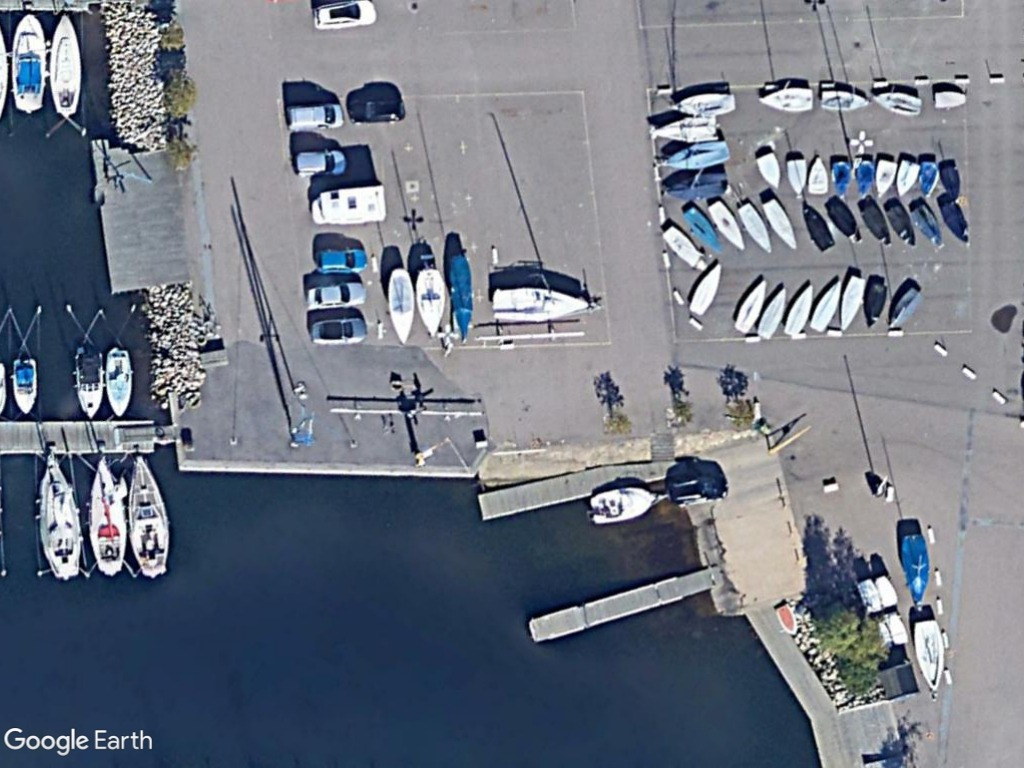boat: (77, 450, 133, 579), (33, 451, 86, 582), (121, 452, 173, 578), (488, 283, 592, 326), (583, 483, 659, 528), (908, 615, 948, 695), (411, 264, 450, 342), (382, 264, 417, 350), (731, 194, 775, 260), (898, 525, 932, 610), (646, 112, 724, 149), (69, 346, 106, 421), (682, 258, 726, 321), (679, 198, 725, 255), (658, 220, 707, 273), (703, 193, 746, 253), (754, 191, 797, 251), (806, 272, 848, 333), (728, 274, 770, 335), (777, 276, 818, 338), (103, 344, 136, 421), (666, 89, 738, 123), (823, 194, 867, 249), (752, 282, 792, 341), (857, 194, 899, 250), (883, 280, 924, 334), (751, 85, 819, 115), (833, 270, 865, 333), (801, 199, 837, 254), (908, 198, 946, 250), (868, 87, 926, 121), (882, 201, 922, 250), (8, 354, 39, 417), (937, 198, 973, 251), (815, 85, 874, 116), (860, 273, 889, 330), (749, 145, 784, 192)
car: (299, 280, 369, 313), (305, 313, 369, 348), (289, 146, 348, 181), (313, 245, 370, 277)
van: (280, 99, 349, 137)
